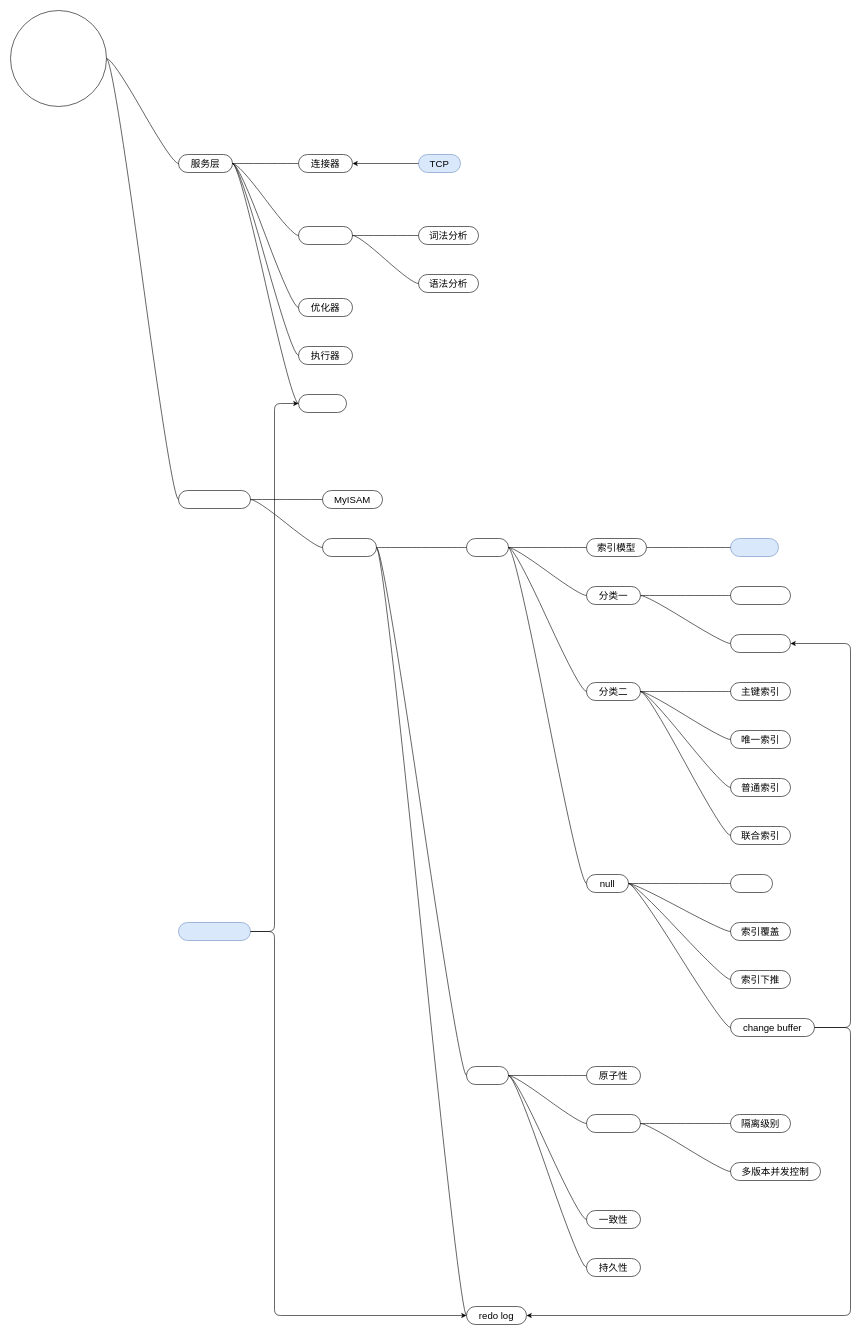
This 866x1335 diagram has some shape labels left out. The shapes that lost their labels are listed below. From the top down, each one's centre as x and y in pixels, then its label:
At [58,58]: "MySQL".
At [325,235]: "分析器".
At [322,403]: "binlog".
At [214,499]: "存储引擎层".
At [349,547]: "InnoDB".
At [487,547]: "索引".
At [754,547]: "B+ 树".
At [760,595]: "聚簇索引".
At [760,643]: "二级索引".
At [751,883]: "回表".
At [214,931]: "二阶段提交".
At [487,1075]: "事务".
At [613,1123]: "隔离性".
